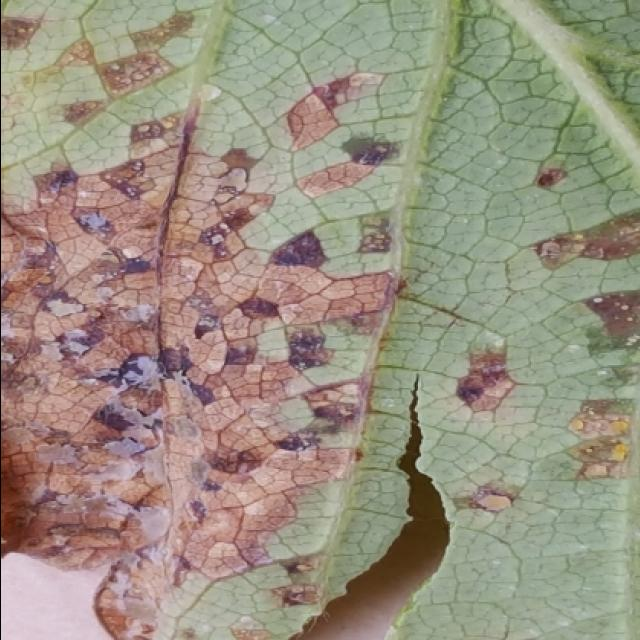Angular Leafspot: (2, 5, 640, 640)
